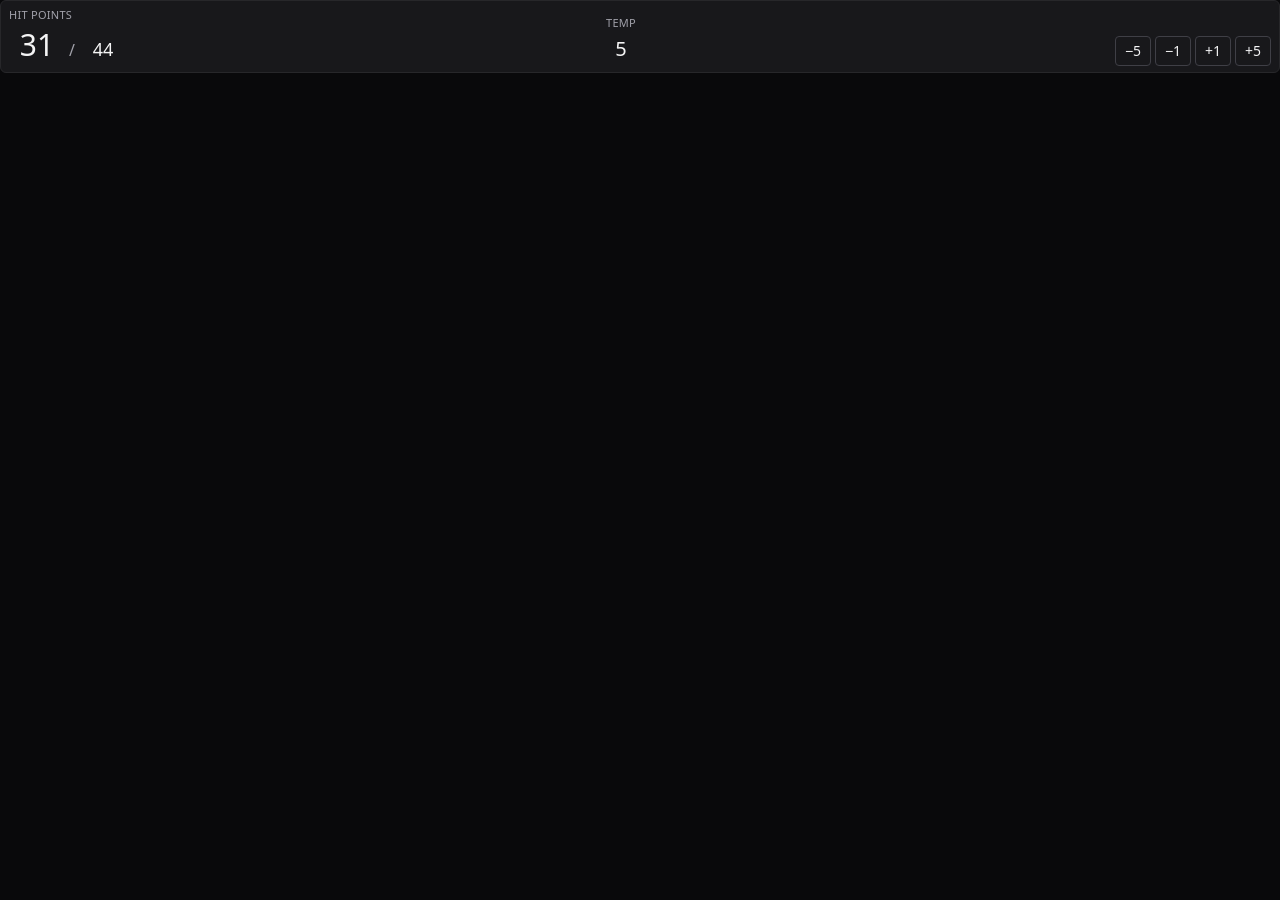
Test: HpBlock › keeps only one Undo toast and does not revert a max edit
The image size is (1280, 900).
Click the button "−1" at (1173, 50), box [1155,36,1191,66]
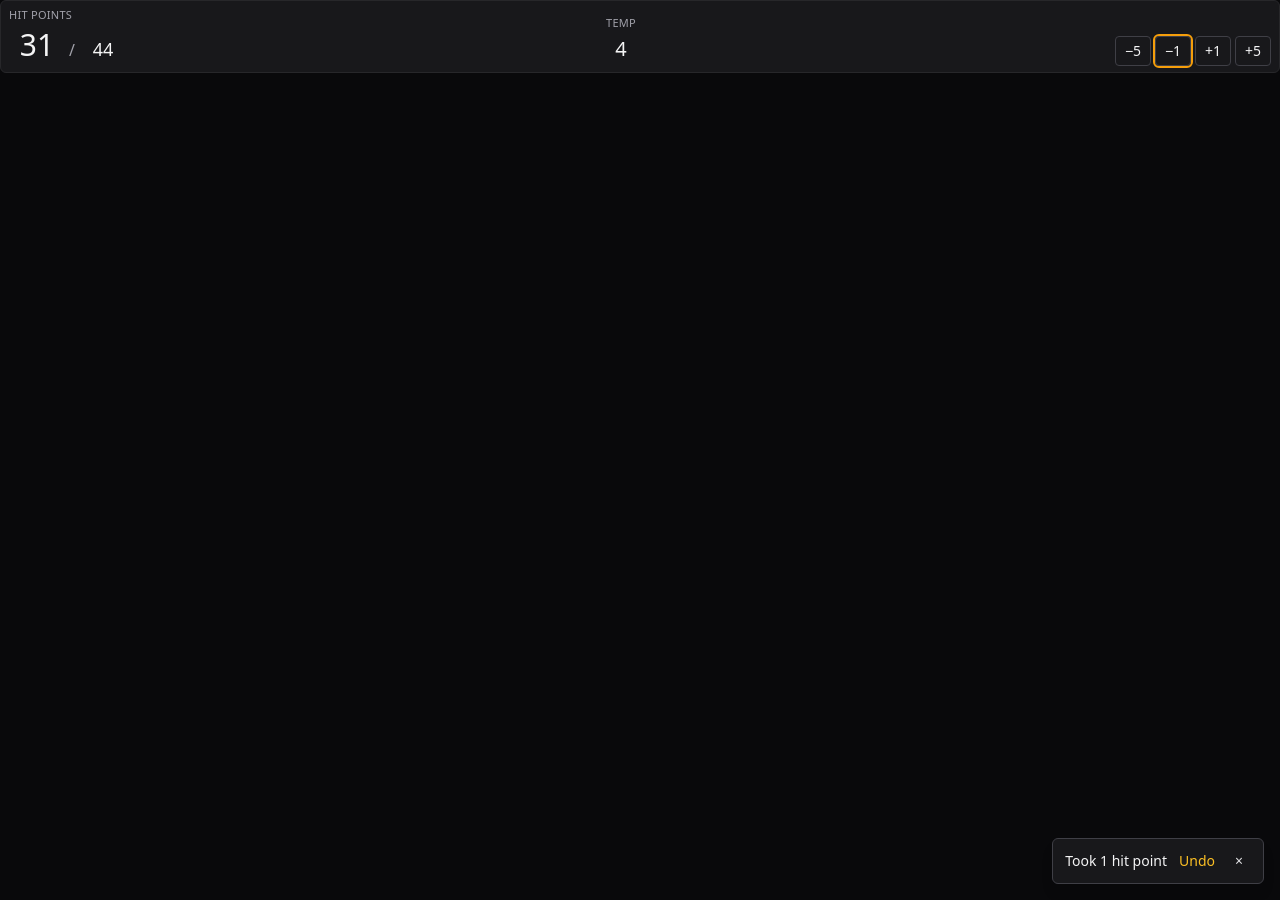
Click the button "−1" at (1173, 50), box [1155,36,1191,66]
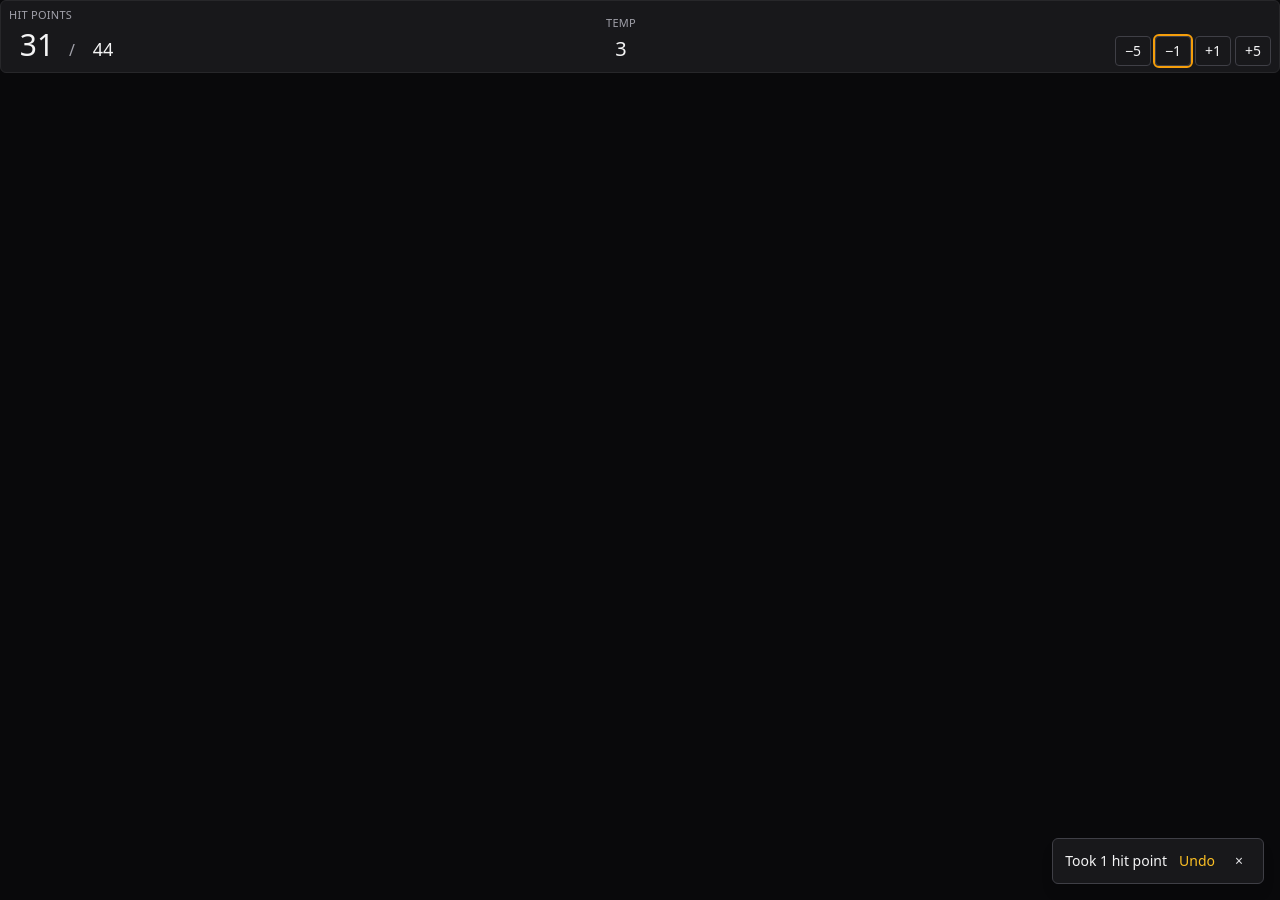
Expected: the number of buttons "Undo" is 1, [1179,851,1215,871]
Replace the text in the field named "Maximum hit points" with "50" at (103, 48), box [79,32,127,66]
Then press Enter
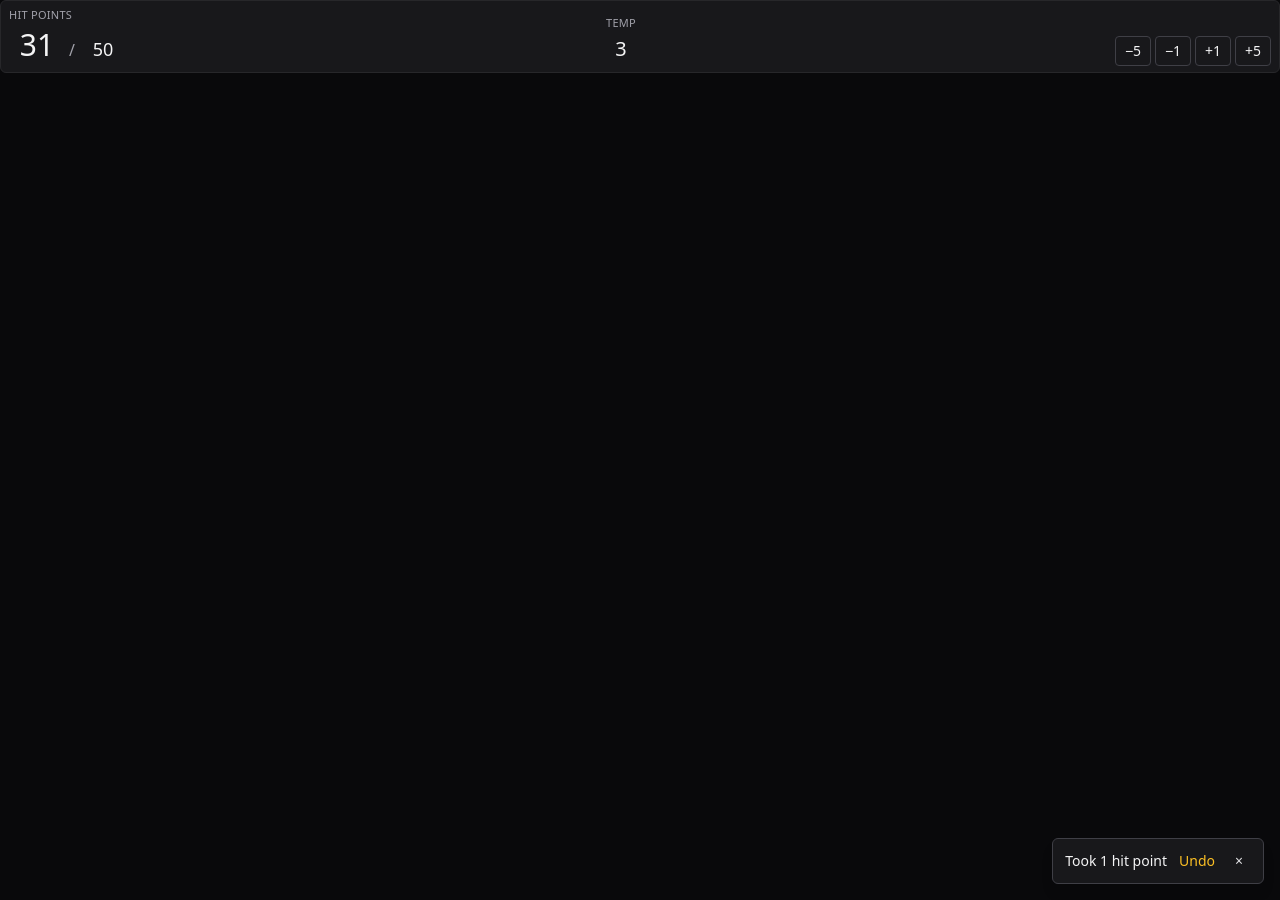
Click the button "Undo" at (1197, 861), box [1179,851,1215,871]
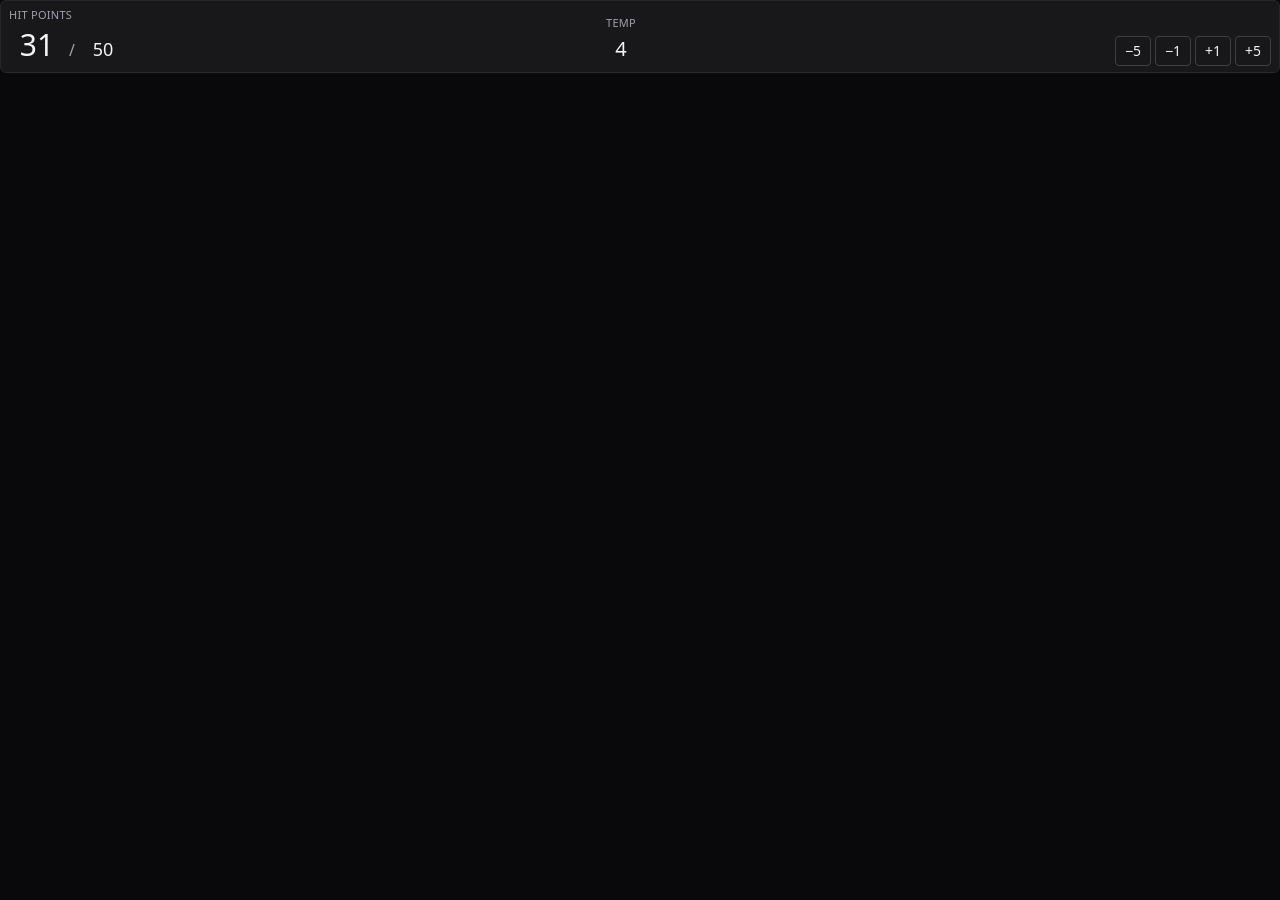
Expected: the field named "Temporary hit points" holds "4", [597,32,645,66]
